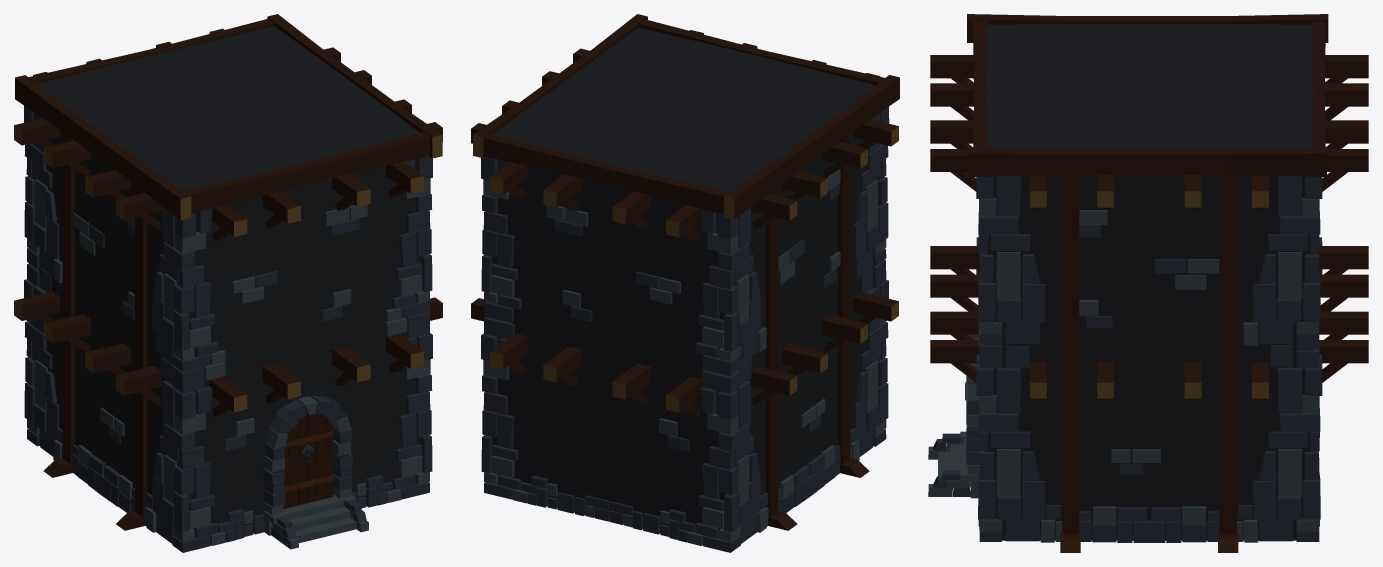
Rendered from House_3.obj.
3 views of the same model, side by side, from view 1: azimuth 30°, elevation 25°; view 2: azimuth 150°, elevation 25°; view 3: azimuth 270°, elevation 25° (orthographic). The views are drawn at different scales.
Parts seen in each view (by area): view 1: House_3_Cube.305; view 2: House_3_Cube.305; view 3: House_3_Cube.305.
Boxes of the visible parts, x1,y1,x2,y2 form: House_3_Cube.305: (14,14,442,552); House_3_Cube.305: (471,14,899,552); House_3_Cube.305: (928,14,1368,552).
Size of the model in its own units: 1.94 by 2.09 by 2.12.
